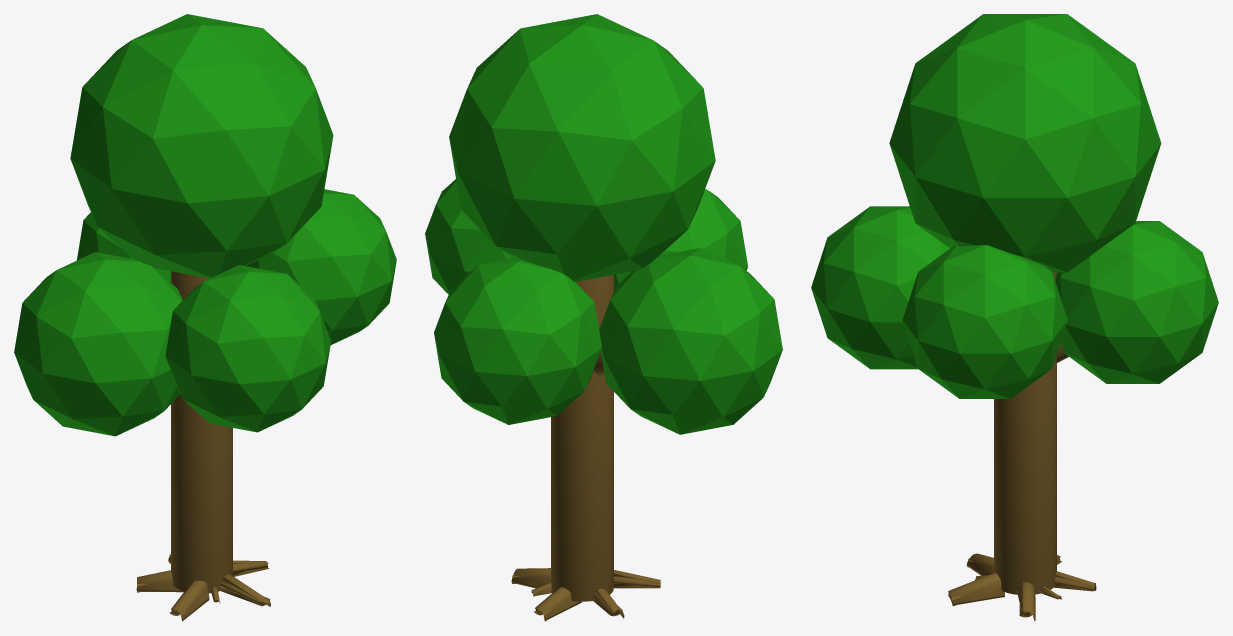
File: Ağaç 3.fbx
3 renders of one model, left to right at view 1: azimuth 30°, elevation 25°; view 2: azimuth 150°, elevation 25°; view 3: azimuth 270°, elevation 25°, orthographic.
Visible parts, largest first — view 1: YAPRAK, YAPRAK.004, YAPRAK.001, YAPRAK.003, GÖVDE, YAPRAK.002, KÖK.003, KÖK.004, KÖK.006; view 2: YAPRAK, YAPRAK.004, YAPRAK.002, GÖVDE, YAPRAK.003, YAPRAK.001, KÖK.001, KÖK, KÖK.003; view 3: YAPRAK, YAPRAK.003, YAPRAK.002, YAPRAK.001, GÖVDE, KÖK.004, KÖK, KÖK.001.
Boxes of the visible parts, box(x1,y1,x2,y2) form: YAPRAK: box(70, 14, 333, 278); YAPRAK.004: box(14, 252, 182, 436); YAPRAK.001: box(165, 265, 331, 432); YAPRAK.003: box(246, 189, 396, 344); GÖVDE: box(171, 271, 232, 593); YAPRAK.002: box(77, 212, 170, 282); KÖK.003: box(170, 580, 209, 621); KÖK.004: box(220, 574, 270, 606); KÖK.006: box(136, 570, 184, 592); YAPRAK: box(449, 14, 715, 281); YAPRAK.004: box(599, 248, 782, 434); YAPRAK.002: box(434, 257, 601, 424); GÖVDE: box(551, 274, 613, 601); YAPRAK.003: box(425, 179, 512, 294); YAPRAK.001: box(614, 189, 747, 291); KÖK.001: box(534, 587, 581, 621); KÖK: box(511, 568, 550, 588); KÖK.003: box(614, 570, 660, 588); YAPRAK: box(889, 14, 1161, 272); YAPRAK.003: box(902, 245, 1067, 398); YAPRAK.002: box(1055, 221, 1218, 383); YAPRAK.001: box(811, 206, 949, 369); GÖVDE: box(994, 272, 1056, 594); KÖK.004: box(948, 572, 1004, 606); KÖK: box(1016, 582, 1035, 621); KÖK.001: box(1054, 571, 1096, 591).
Bounding box in the file's own units: 293 × 463 × 300.
